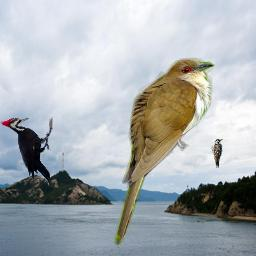Cuckoo: (113, 58, 215, 247)
Woodpecker: (0, 117, 53, 187), (210, 139, 223, 169)
